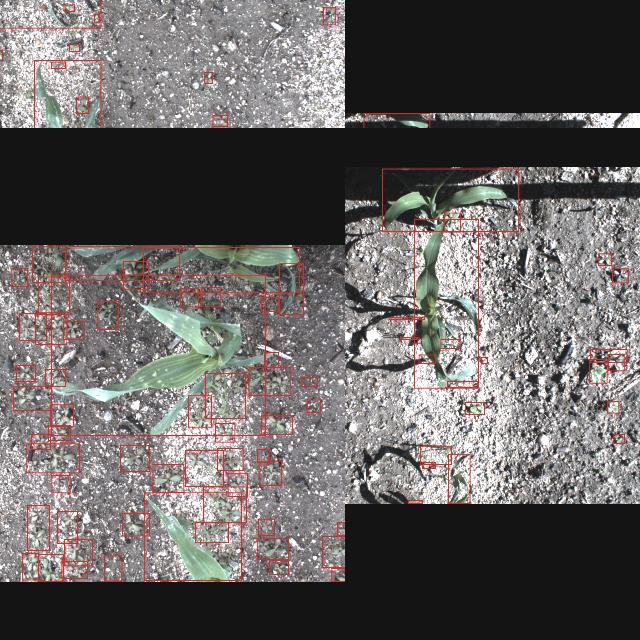crop: (51, 274, 265, 436), (414, 218, 478, 388), (382, 168, 518, 232), (144, 493, 240, 581), (143, 247, 299, 293), (34, 61, 100, 128), (65, 246, 178, 280), (279, 264, 303, 314), (447, 454, 469, 504), (363, 112, 429, 128), (407, 501, 421, 504)
weed: (205, 374, 245, 418), (202, 487, 245, 523), (26, 443, 78, 472), (185, 450, 223, 486), (32, 245, 64, 282), (248, 367, 290, 395), (38, 276, 68, 312), (27, 506, 49, 550), (34, 314, 66, 344), (13, 386, 52, 410), (152, 464, 184, 492), (18, 312, 46, 340), (321, 536, 345, 567), (122, 261, 148, 289), (120, 445, 148, 471), (64, 540, 92, 566), (256, 538, 288, 560), (38, 554, 62, 582), (195, 523, 228, 543), (188, 396, 210, 426), (56, 512, 76, 544), (259, 460, 281, 486), (216, 448, 242, 470), (122, 514, 148, 536), (97, 301, 117, 329), (261, 416, 291, 434), (420, 446, 450, 464), (49, 404, 72, 426), (103, 556, 121, 582), (227, 474, 247, 496), (590, 350, 626, 362), (22, 554, 38, 580), (214, 422, 234, 442), (200, 287, 220, 307), (62, 562, 86, 578), (590, 359, 606, 383), (63, 321, 83, 339), (45, 368, 65, 386), (180, 288, 198, 306), (268, 560, 288, 576), (15, 365, 35, 381), (30, 434, 50, 450), (444, 212, 460, 232), (48, 426, 70, 440), (260, 296, 278, 312), (51, 476, 69, 492), (11, 268, 27, 286), (608, 354, 624, 371), (258, 519, 274, 535), (322, 7, 336, 25), (464, 402, 484, 414), (264, 352, 278, 368), (612, 268, 628, 282), (76, 96, 88, 114), (440, 339, 460, 349), (306, 398, 320, 412), (331, 568, 345, 581), (447, 381, 477, 387), (257, 449, 269, 463), (301, 376, 317, 386), (418, 354, 434, 364), (212, 115, 226, 126), (598, 253, 610, 265), (606, 402, 618, 412), (336, 522, 345, 535), (613, 434, 623, 444), (204, 72, 212, 84), (50, 62, 64, 68), (422, 463, 434, 469), (388, 318, 424, 320), (69, 44, 79, 51), (64, 5, 74, 11), (399, 337, 418, 339), (481, 357, 487, 363), (94, 14, 98, 22), (0, 50, 2, 60)
